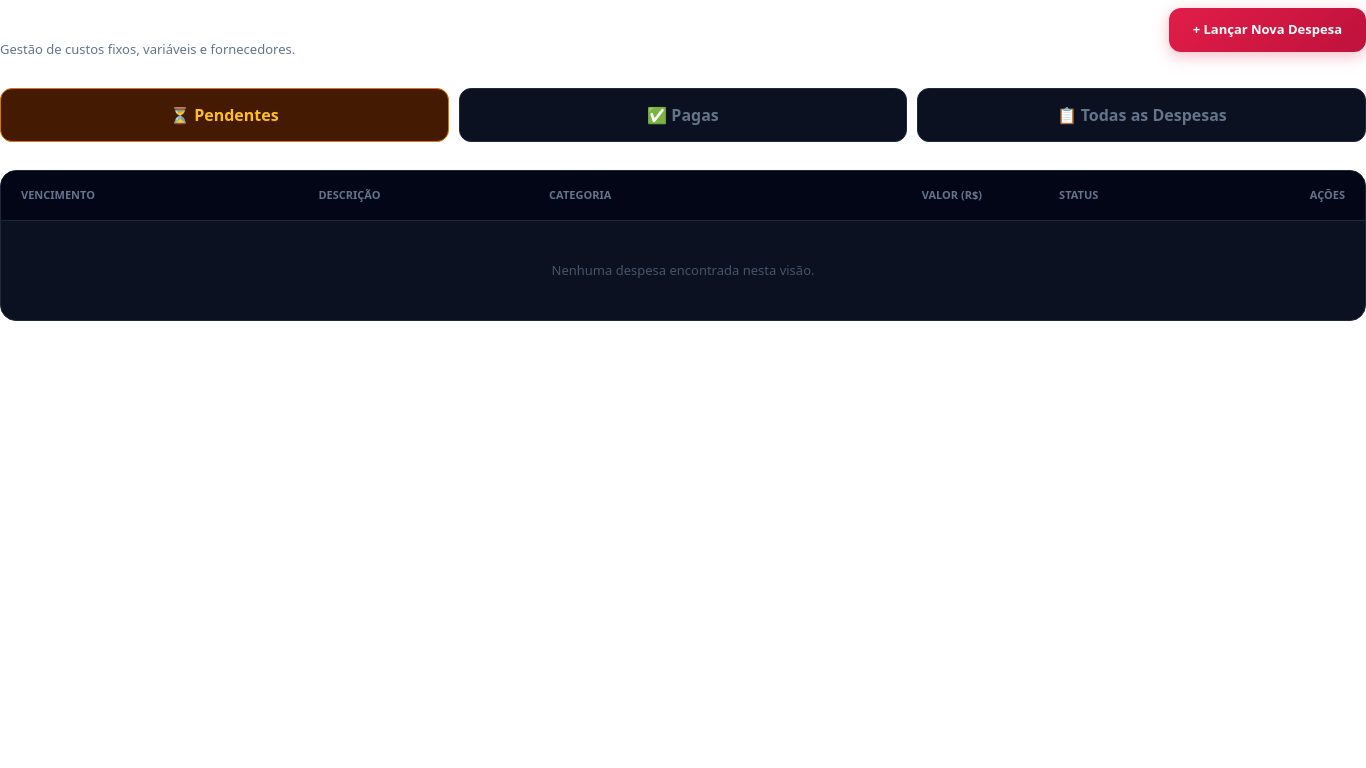
Scenario: editar despesa paga preserva registro e exige fluxo financeiro
The image size is (1366, 768).
What coordinates should you click on to do the following:
click the button "✅ Pagas"
I would click on:
 (683, 115)
Its box is [459, 88, 907, 142].
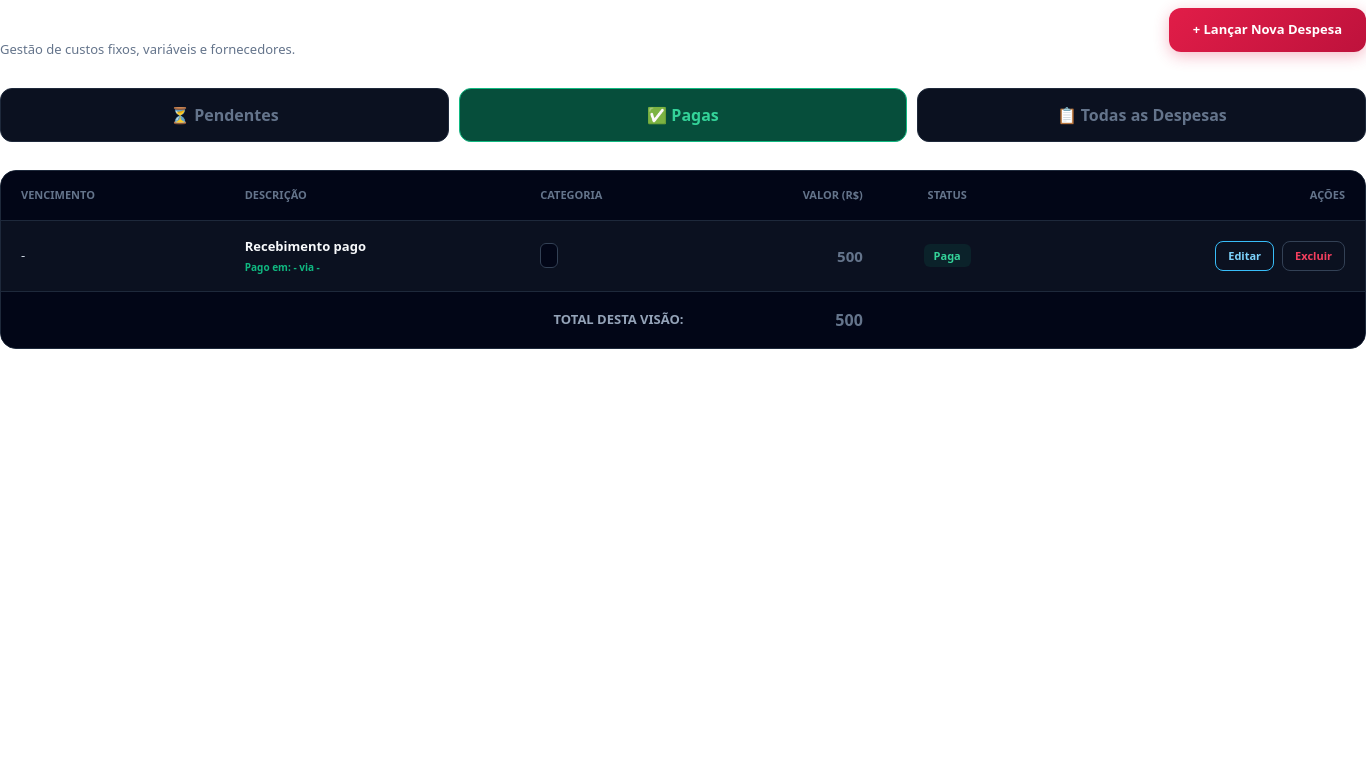
What coordinates should you click on to do the following:
click the button "Editar"
I would click on:
 (1245, 256)
Its box is [1215, 240, 1274, 271].
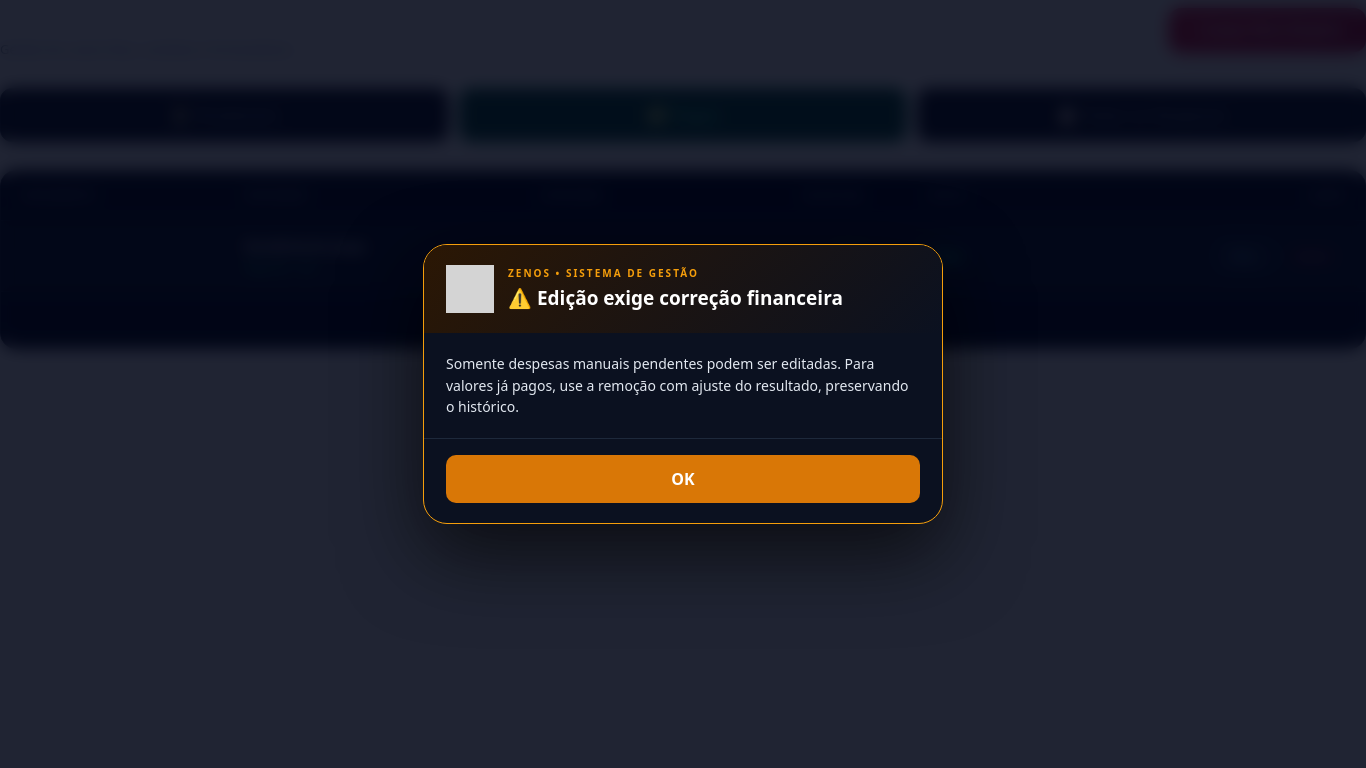
expect the text "⚠️ Edição exige correção financeira" is shown: met, box [508, 285, 843, 311]
